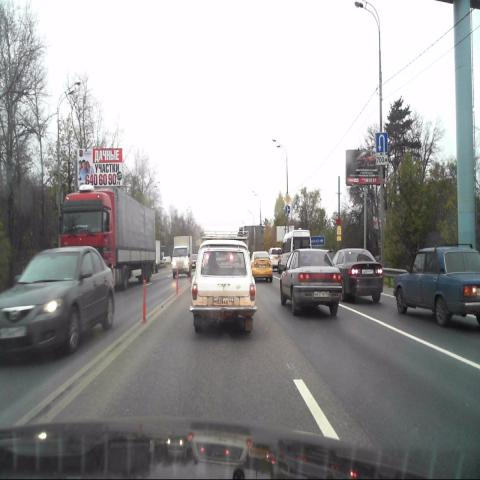6_3_1: (375, 132, 387, 153)
